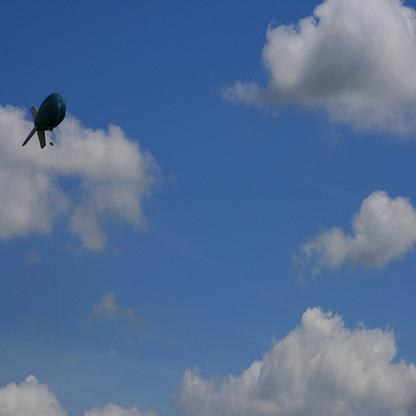Airship: (23, 91, 71, 160)
